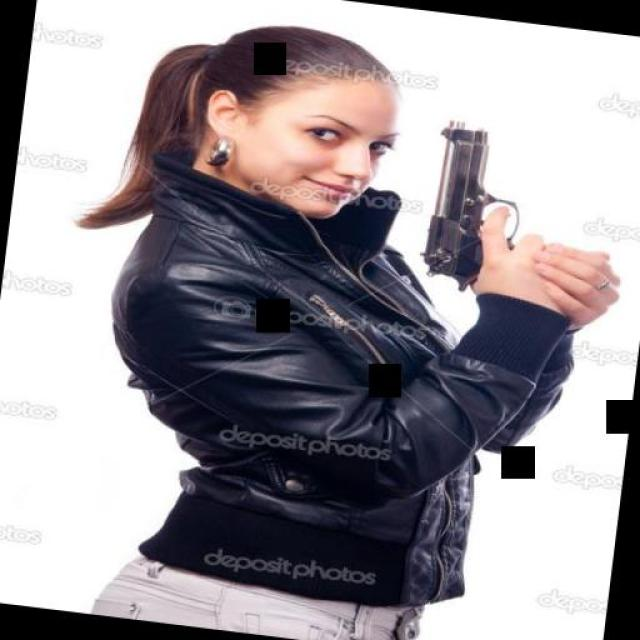gun: (416, 116, 619, 302)
